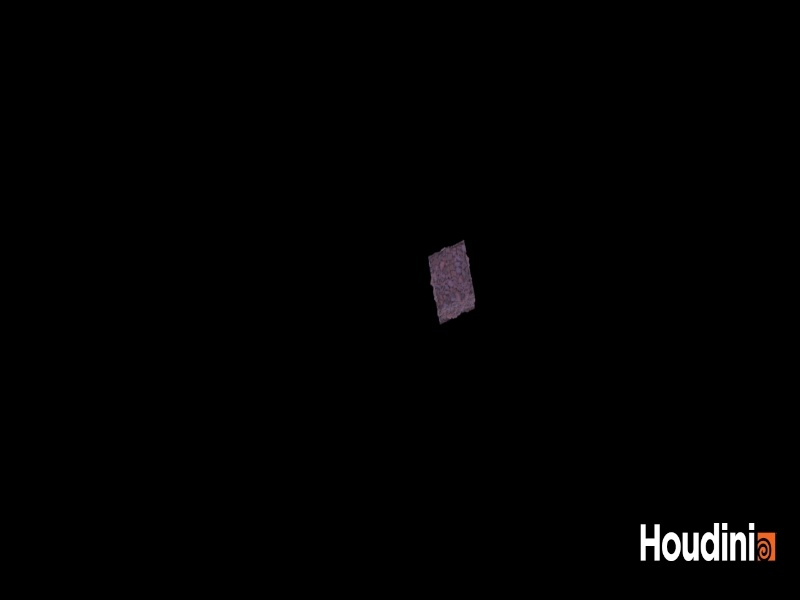waste: (423, 232, 484, 331)
